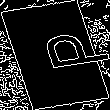P_W: (12, 31, 98, 79)
